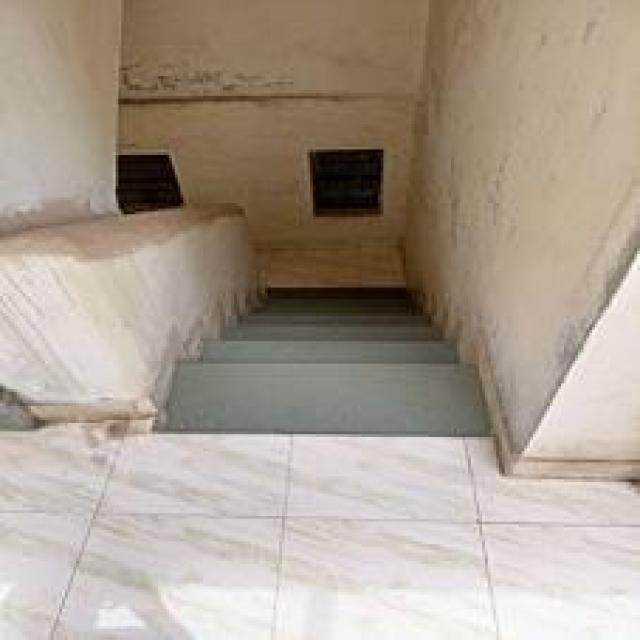downstair: (221, 252, 446, 404)
